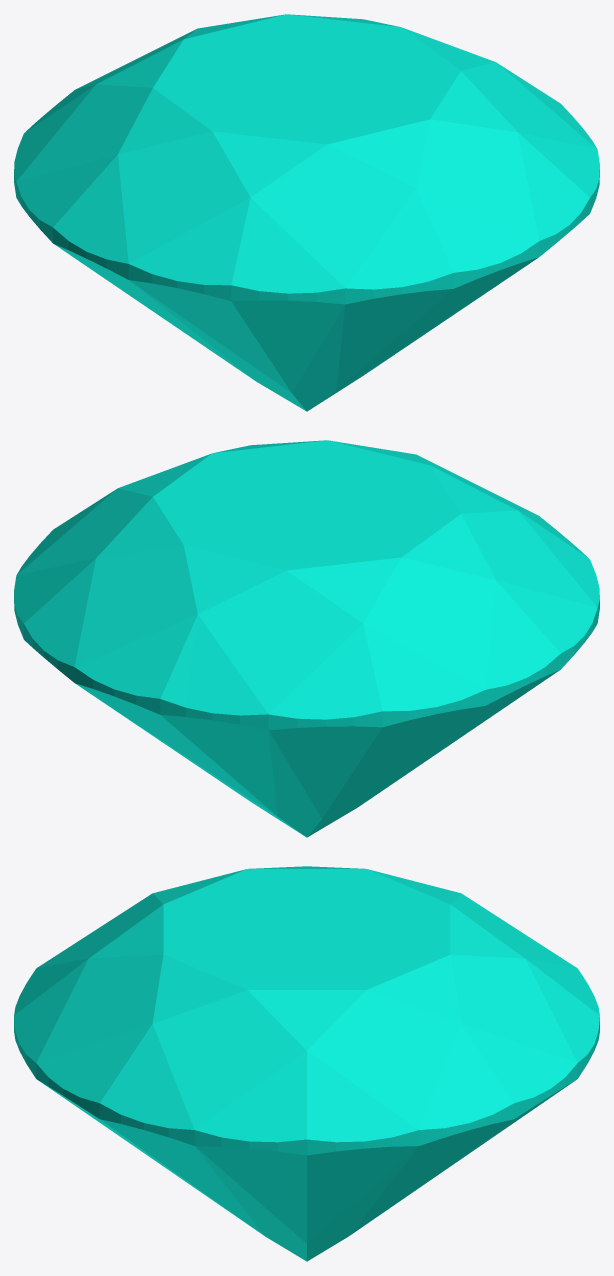
Rendered from RoundBGTourm.glb.
3 views of the same model, one above another, from view 1: azimuth 30°, elevation 25°; view 2: azimuth 150°, elevation 25°; view 3: azimuth 270°, elevation 25° (orthographic).
Parts seen in each view (by area): view 1: new twist dia for 3d model; view 2: new twist dia for 3d model; view 3: new twist dia for 3d model.
Part boxes in pixels (x1,y1,x2,y2): new twist dia for 3d model: (14, 14, 599, 411); new twist dia for 3d model: (14, 440, 599, 837); new twist dia for 3d model: (14, 866, 599, 1261).
Size of the model in its own units: 7.45 by 4.66 by 7.45.
